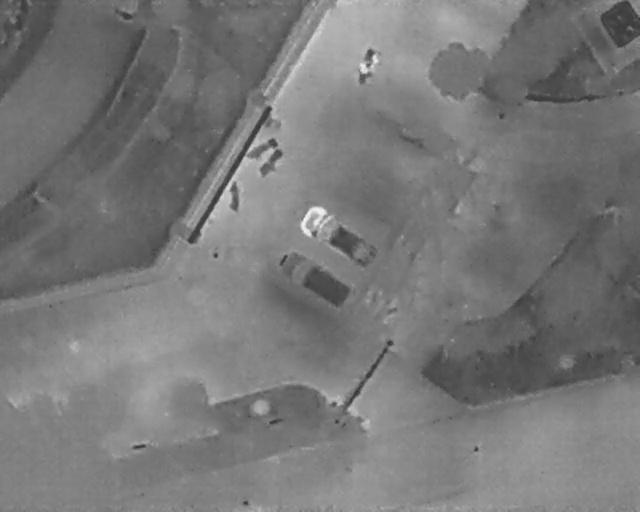Bicycle: (351, 42, 382, 89), (253, 146, 289, 181), (243, 135, 278, 162), (225, 178, 242, 211)
Car: (293, 199, 386, 275), (270, 244, 360, 318)
